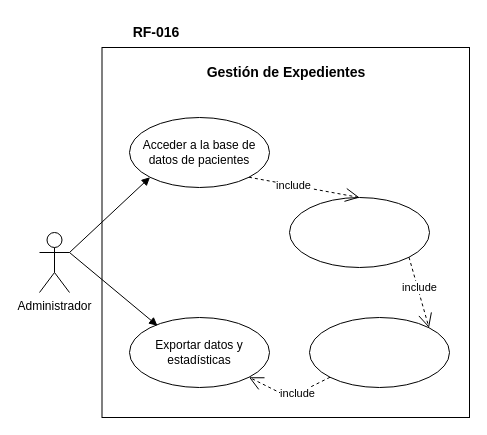
The diagram is 487 pixels wide and 435 high, and some of its shapes have lost their labels. The shapes that lost their labels are listed below. From the top down, each one's centre as x and y in pixels, then its label:
At point (359, 232): "Analizar estadísticas".
At point (379, 352): "Generar informes".
